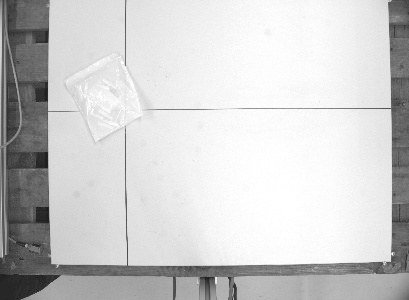t3: (61, 49, 147, 143)
